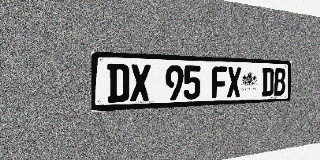5: (184, 65, 201, 99)
9: (166, 65, 184, 100)
B: (274, 68, 286, 96)
D: (107, 63, 129, 103), (262, 68, 274, 96)
F: (212, 66, 227, 98)
X: (130, 64, 150, 102), (227, 67, 241, 98)
